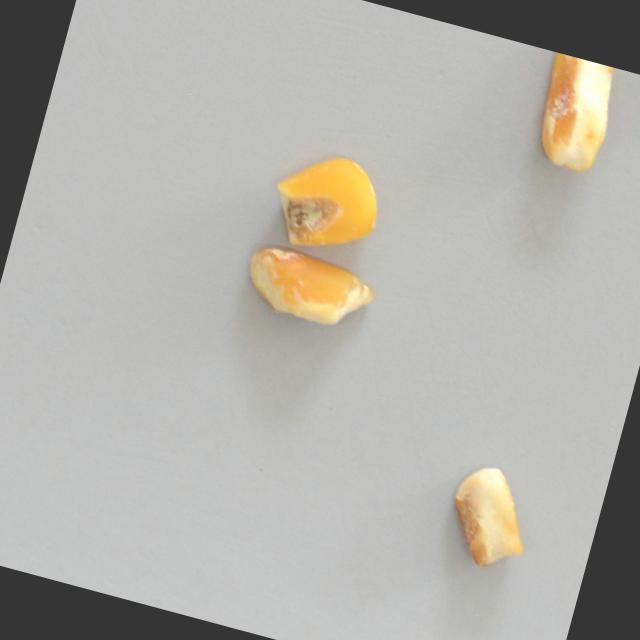dañado: (259, 138, 398, 269), (235, 238, 384, 340), (521, 51, 630, 185), (435, 456, 546, 579)
